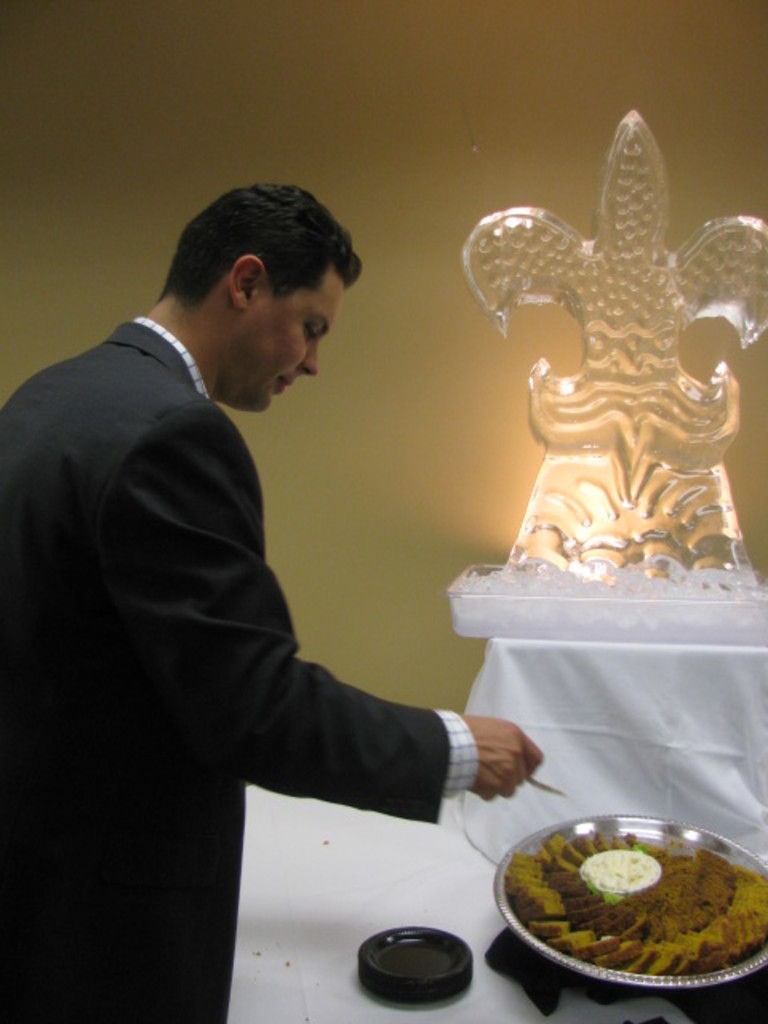plate: (494, 816, 766, 992)
